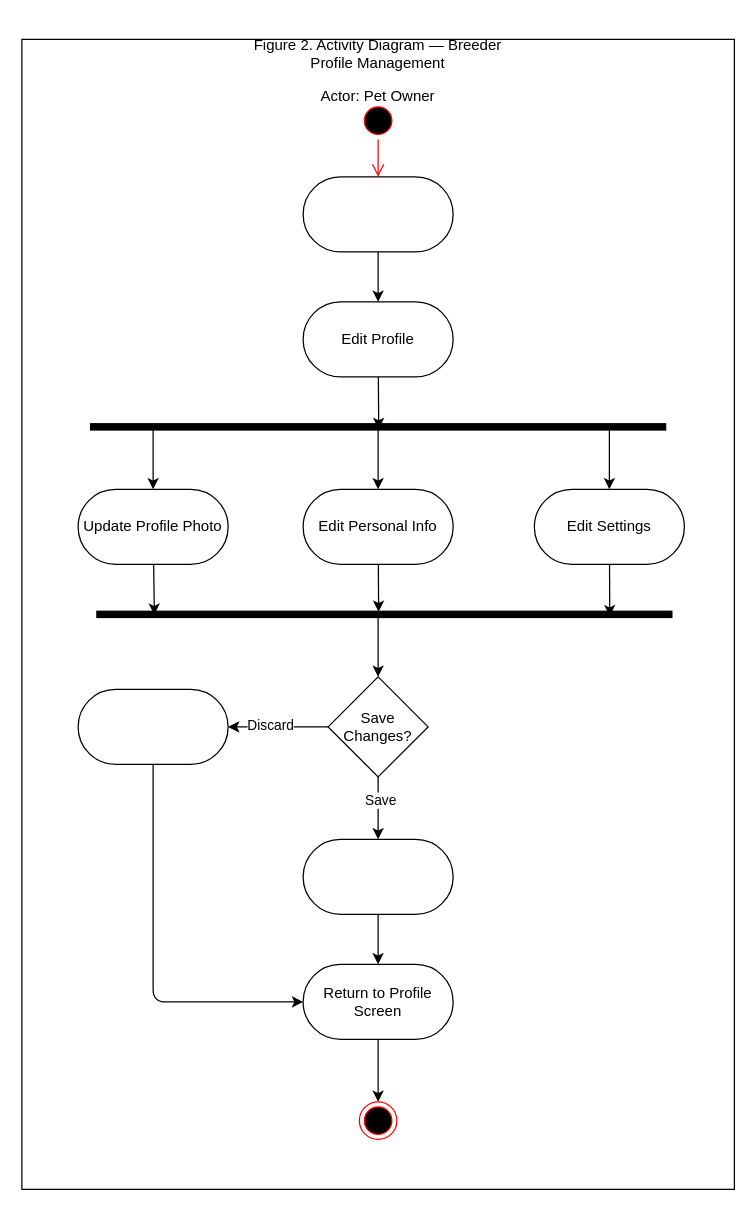
The diagram is 756 pixels wide and 1211 high, and some of its shapes have lost their labels. The shapes that lost their labels are listed below. From the top down, each one's centre as x and y in pixels, then its label:
At point 377,214: "Open Profile Screen".
At point 152,726: "Changes Discarded".
At point 377,876: "Profile Updated Successfully".
